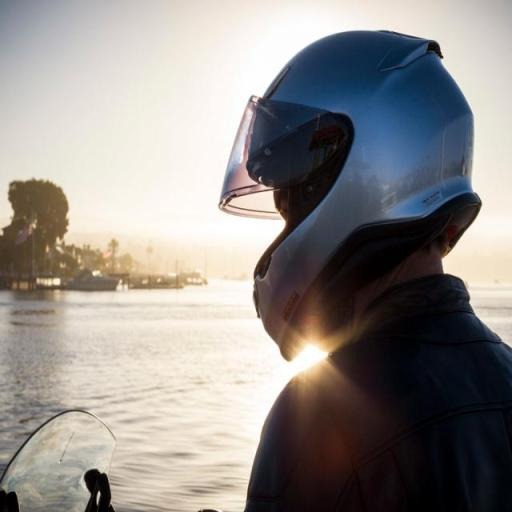Helmet: (198, 18, 478, 341)
